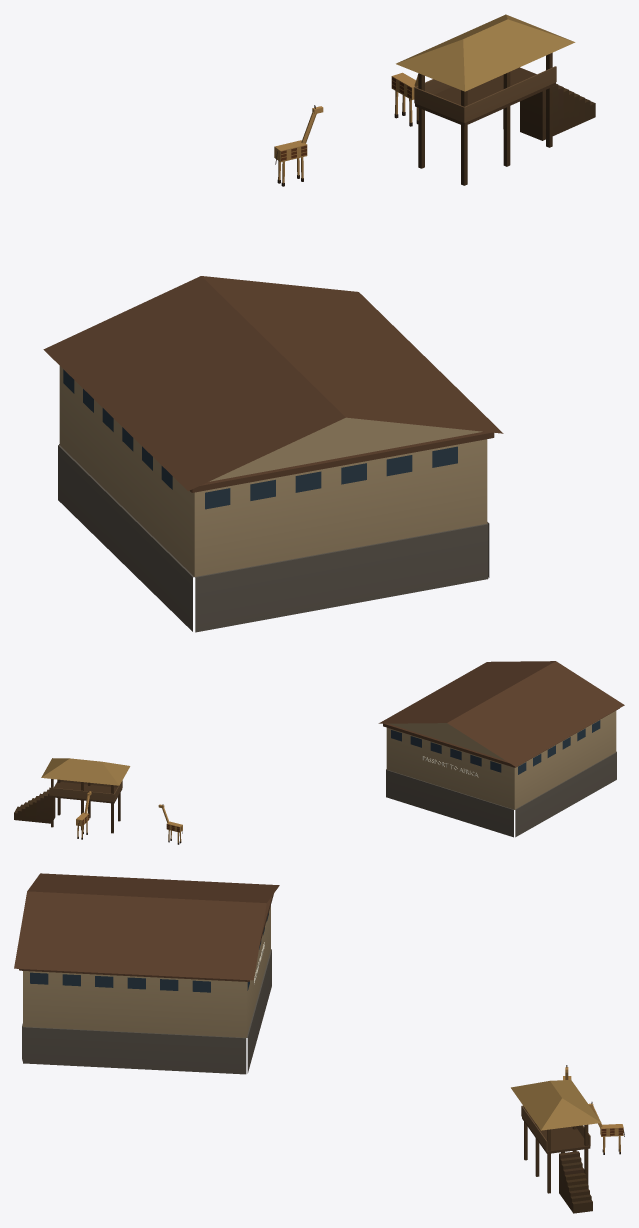
File: niabi_giraffe.glb
3 renders of one model, top to bottom at view 1: azimuth 30°, elevation 25°; view 2: azimuth 150°, elevation 25°; view 3: azimuth 270°, elevation 25°, orthographic. The views are drawn at different scales.
Visible parts, largest first — view 1: niabi_giraffe_lod0; view 2: niabi_giraffe_lod0; view 3: niabi_giraffe_lod0.
Part boxes in pixels (<box>): niabi_giraffe_lod0: <box>43,14,595,632</box>; niabi_giraffe_lod0: <box>14,661,624,844</box>; niabi_giraffe_lod0: <box>14,873,624,1213</box>.
Size of what is drawn, in the model's own units: 60.49 by 13.7 by 59.75.
